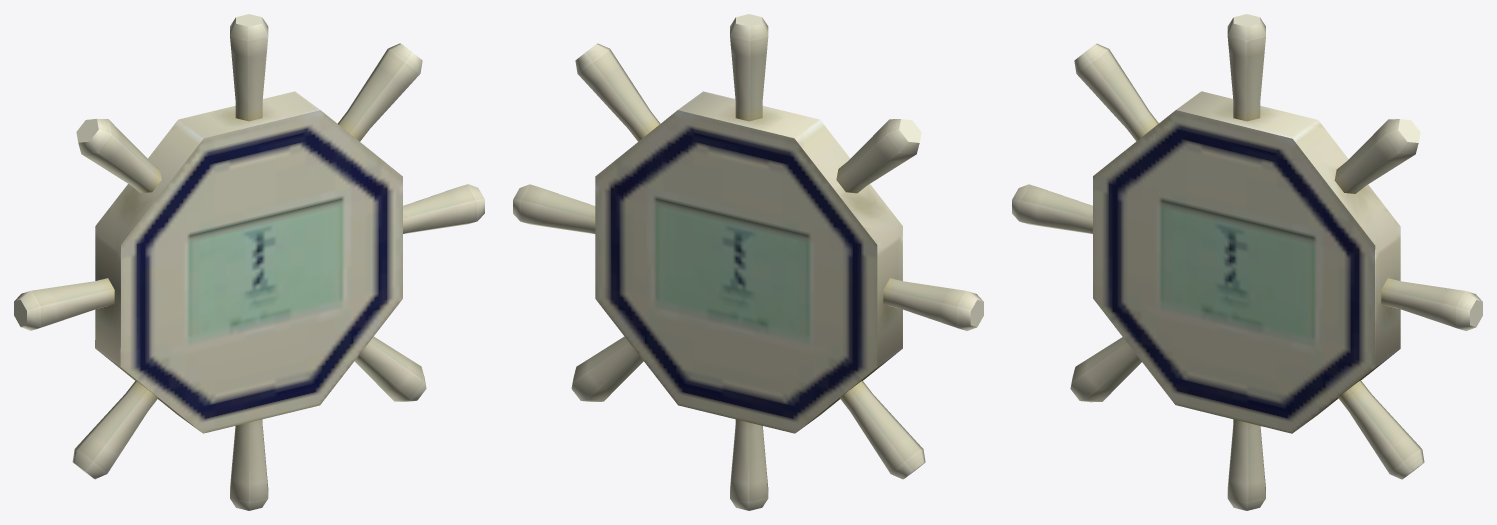
Rendered from furni_0200068_01.FBX.
3 renders of one model, left to right at view 1: azimuth 30°, elevation 25°; view 2: azimuth 150°, elevation 25°; view 3: azimuth 330°, elevation 25°, orthographic.
Visible parts, largest first — view 1: furni_0200068; view 2: furni_0200068; view 3: furni_0200068.
Part boxes in pixels (x1,y1,x2,y2): furni_0200068: [14, 14, 484, 510]; furni_0200068: [513, 14, 983, 510]; furni_0200068: [1012, 14, 1482, 510].
Bounding box in the file's own units: 92.03 × 92.99 × 8.93.
